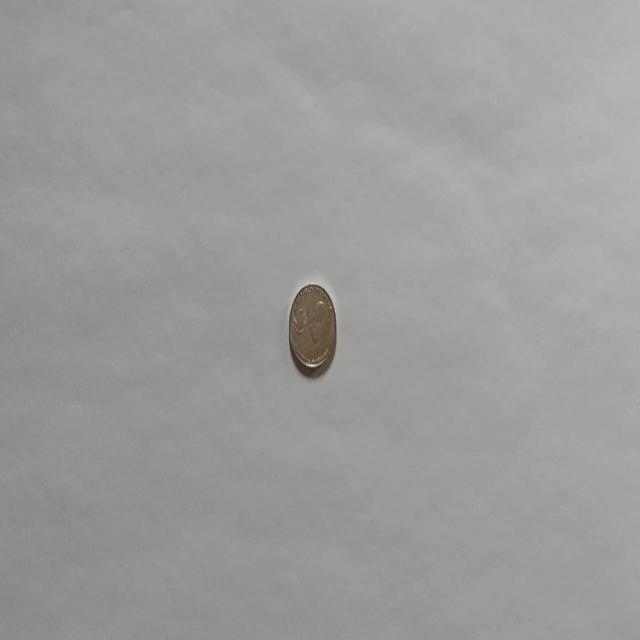lima ratus rupiah: (288, 280, 336, 372)
